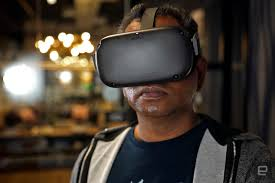oculus: (90, 29, 199, 86)
